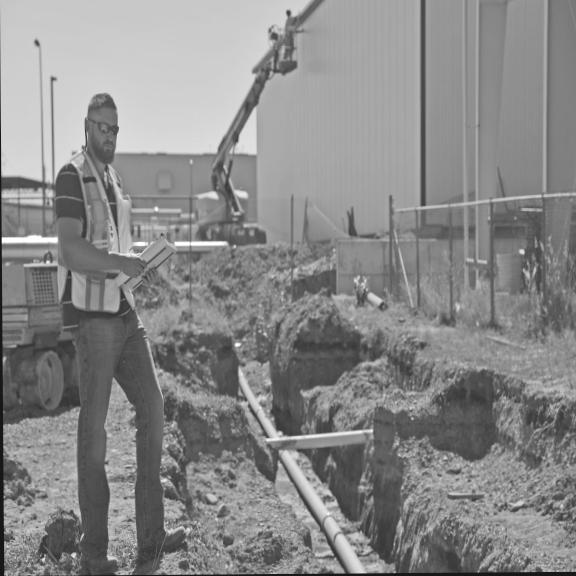safety_vest: (54, 142, 140, 311)
